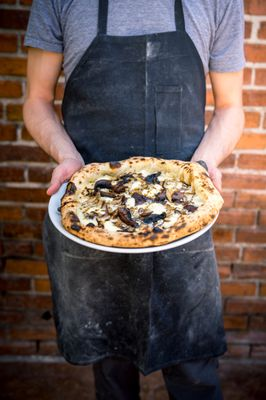sandwich: (58, 157, 224, 248)
